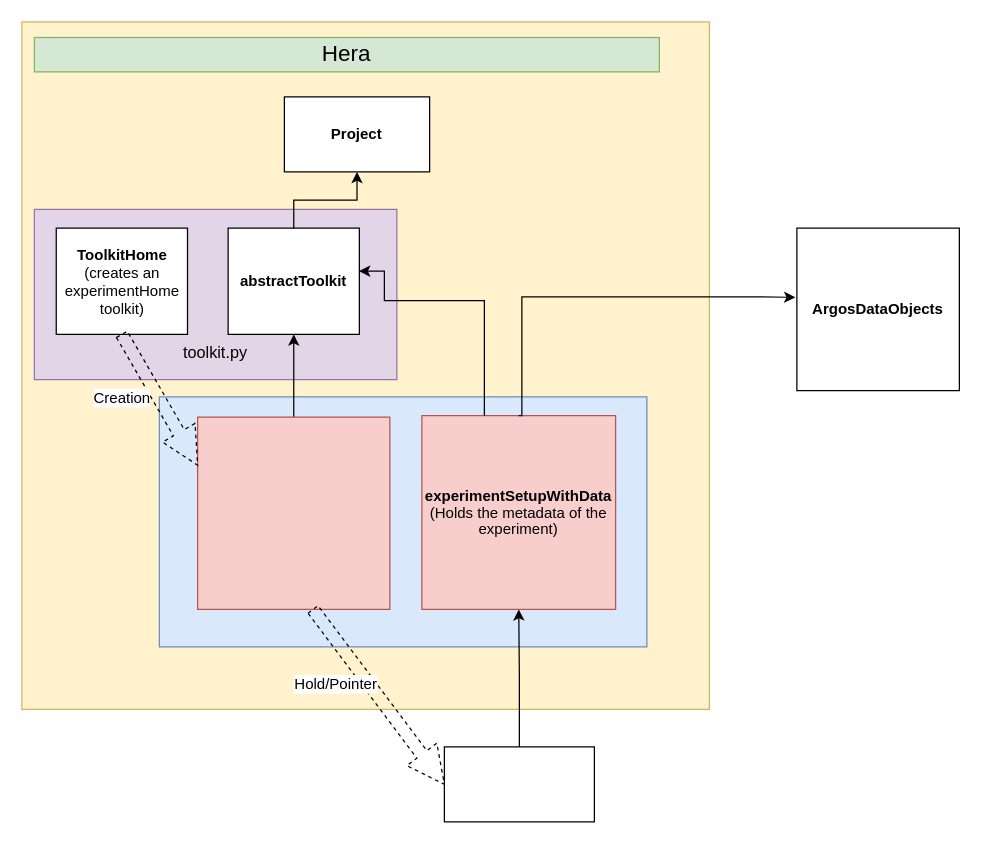
This 981x844 diagram has some shape labels left out. The shapes that lost their labels are listed below. From the top down, each one's box as (x1, y1, x2, y2) in pixels, then its label:
(196, 416, 390, 609): experimentHome Class (Holds the experiments classes)
(158, 396, 647, 647): experiment.py
(443, 746, 594, 822): Specified Experiment Class (written by the user)
